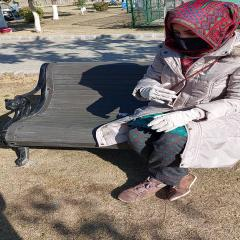gloved: (150, 110, 191, 132), (140, 82, 176, 102)
